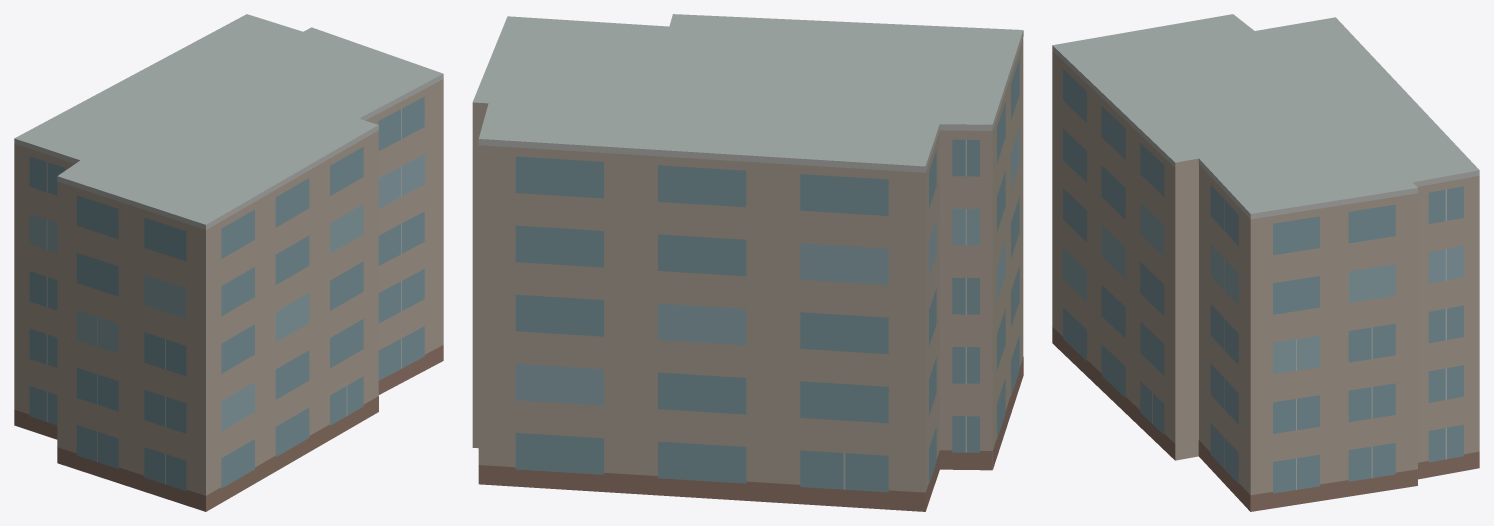
The model's file is survey-upis-32587664.glb.
The picture shows the model from 3 angles, left to right: view 1: azimuth 30°, elevation 25°; view 2: azimuth 150°, elevation 25°; view 3: azimuth 270°, elevation 25°; orthographic projection. The views are drawn at different scales.
Visible parts, largest first — view 1: survey-upis-32587664.tmp; view 2: survey-upis-32587664.tmp; view 3: survey-upis-32587664.tmp.
Part boxes in pixels (x1,y1,x2,y2): survey-upis-32587664.tmp: (14, 14, 443, 511); survey-upis-32587664.tmp: (472, 14, 1023, 511); survey-upis-32587664.tmp: (1052, 14, 1479, 511).
Bounding box in the file's own units: 19.3 × 13.4 × 17.43.
